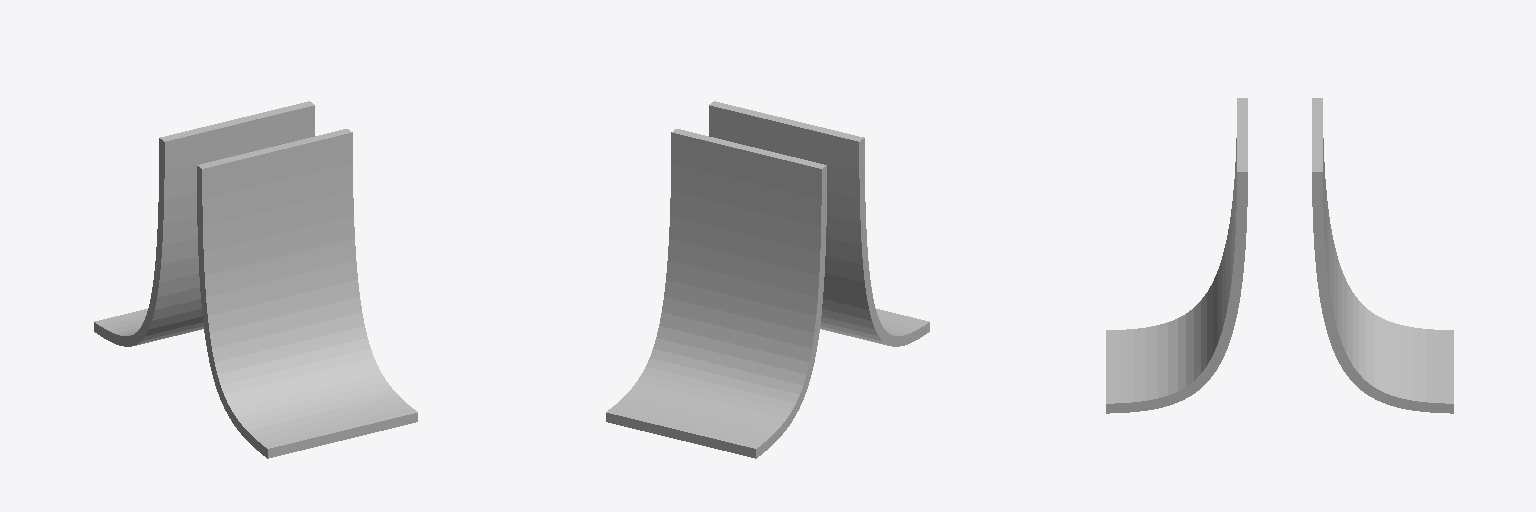
File: desk2.obj
3 renders of one model, left to right at view 1: azimuth 30°, elevation 25°; view 2: azimuth 150°, elevation 25°; view 3: azimuth 270°, elevation 25°, orthographic.
Visible parts, largest first — view 1: Mesh1 Group2 Group1 Model, Mesh2 Group3 Group1 Model; view 2: Mesh2 Group3 Group1 Model, Mesh1 Group2 Group1 Model; view 3: Mesh1 Group2 Group1 Model, Mesh2 Group3 Group1 Model.
Part boxes in pixels (x1,y1,x2,y2): Mesh1 Group2 Group1 Model: (197,129,417,458); Mesh2 Group3 Group1 Model: (94,101,314,346); Mesh2 Group3 Group1 Model: (606,129,826,458); Mesh1 Group2 Group1 Model: (709,101,929,346); Mesh1 Group2 Group1 Model: (1106,98,1247,413); Mesh2 Group3 Group1 Model: (1312,98,1453,413).
Size of the model in its own units: 3 by 4.61 by 6.01.